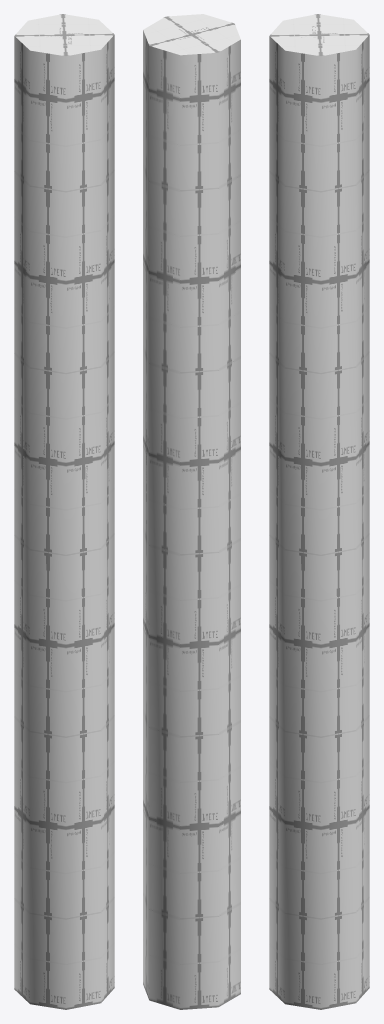
The model's file is Height.fbx.
3 renders of one model, left to right at view 1: azimuth 90°, elevation 25°; view 2: azimuth 210°, elevation 25°; view 3: azimuth 270°, elevation 25°, orthographic.
Parts seen in each view (by area): view 1: Height; view 2: Height; view 3: Height.
Part boxes in pixels (x1,y1,x2,y2): Height: (14, 14, 114, 1009); Height: (143, 14, 240, 1009); Height: (269, 14, 369, 1009).
Size of the model in its own units: 49.98 by 525 by 49.98.
